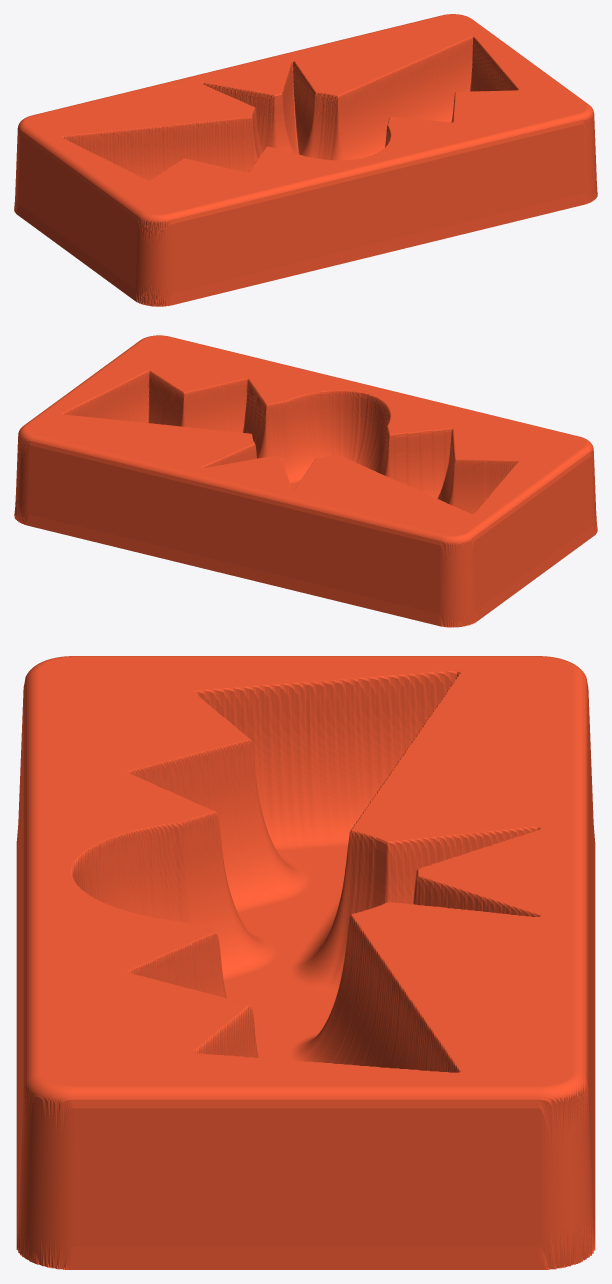
File: mold.glb
3 renders of one model, top to bottom at view 1: azimuth 30°, elevation 25°; view 2: azimuth 150°, elevation 25°; view 3: azimuth 270°, elevation 25°, orthographic. The views are drawn at different scales.
Parts seen in each view (by area): view 1: geometry_0; view 2: geometry_0; view 3: geometry_0.
Part boxes in pixels (x1=…): geometry_0: x1=14, y1=14, x2=597, y2=306; geometry_0: x1=14, y1=335, x2=597, y2=627; geometry_0: x1=16, y1=656, x2=595, y2=1269.
Size of the model in its own units: 0.1709 by 0.031 by 0.0934.
